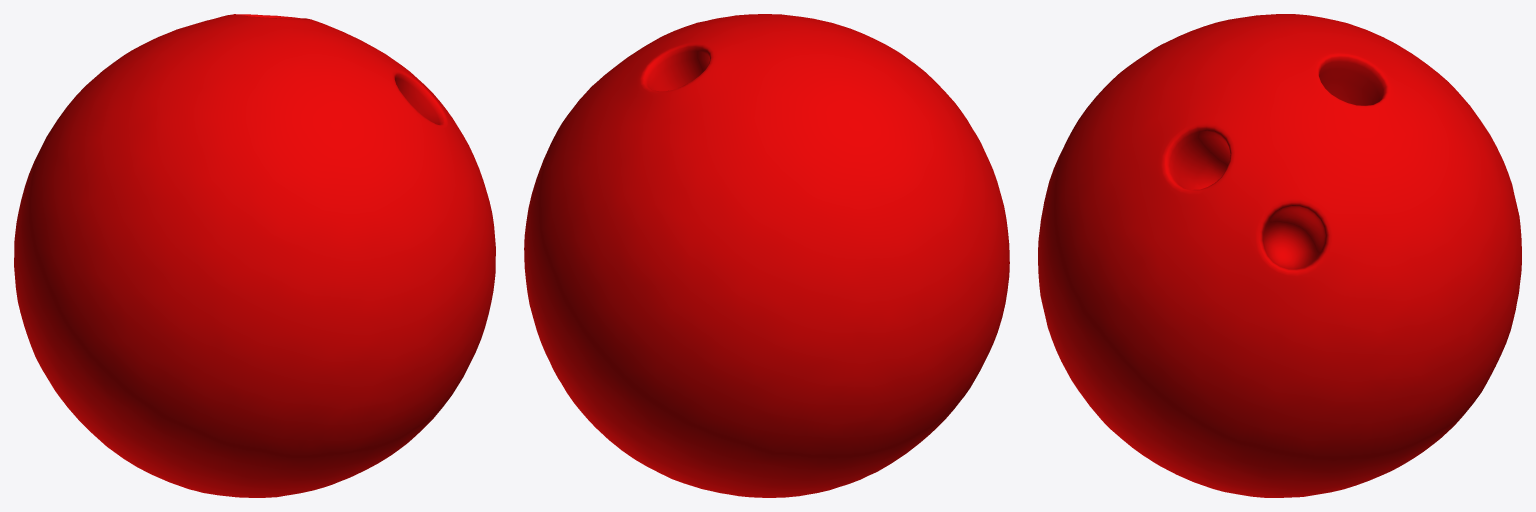
File: Bowling_compressed.glb
The picture shows the model from 3 angles, left to right: view 1: azimuth 30°, elevation 25°; view 2: azimuth 150°, elevation 25°; view 3: azimuth 270°, elevation 25°; orthographic projection.
Visible parts, largest first — view 1: Icosphere.008; view 2: Icosphere.008; view 3: Icosphere.008.
Boxes of the visible parts, <box> form: Icosphere.008: <box>14,14,495,497</box>; Icosphere.008: <box>524,14,1009,497</box>; Icosphere.008: <box>1038,14,1521,497</box>.
Size of the model in its own units: 0.5222 by 0.5233 by 0.5222.
